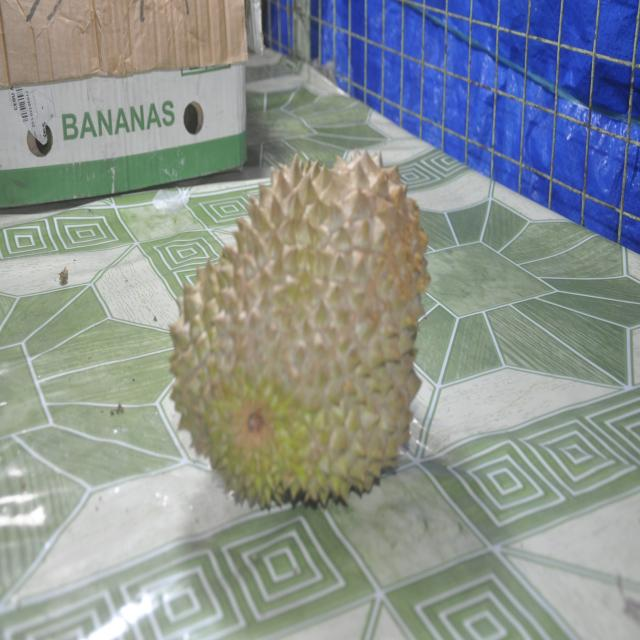mature: (166, 150, 429, 510)
